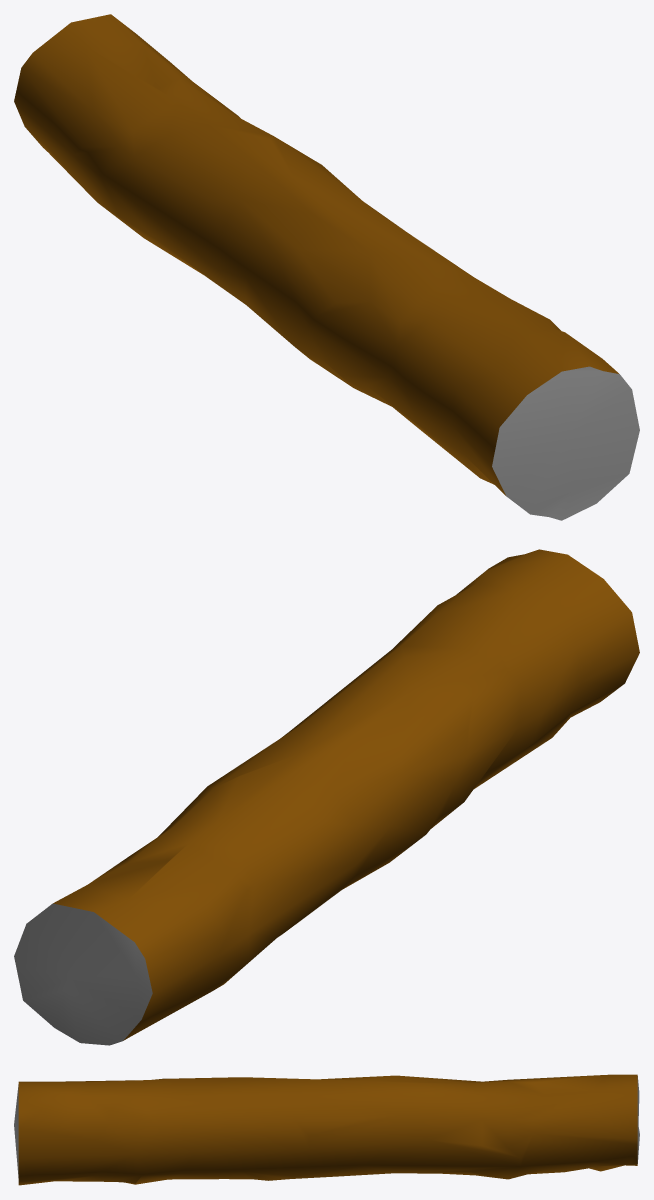
The model's file is Forest_pine_04_02_log.FBX.
3 renders of one model, top to bottom at view 1: azimuth 30°, elevation 25°; view 2: azimuth 150°, elevation 25°; view 3: azimuth 270°, elevation 25°, orthographic. The views are drawn at different scales.
Visible parts, largest first — view 1: Forest_pine_04_02_log_LOD0; view 2: Forest_pine_04_02_log_LOD0; view 3: Forest_pine_04_02_log_LOD0.
Boxes of the visible parts, x1,y1,x2,y2 form: Forest_pine_04_02_log_LOD0: (14,14,639,520); Forest_pine_04_02_log_LOD0: (14,549,639,1045); Forest_pine_04_02_log_LOD0: (14,1074,639,1185).
Size of what is drawn, in the model's own units: 23.26 by 125 by 22.22.
